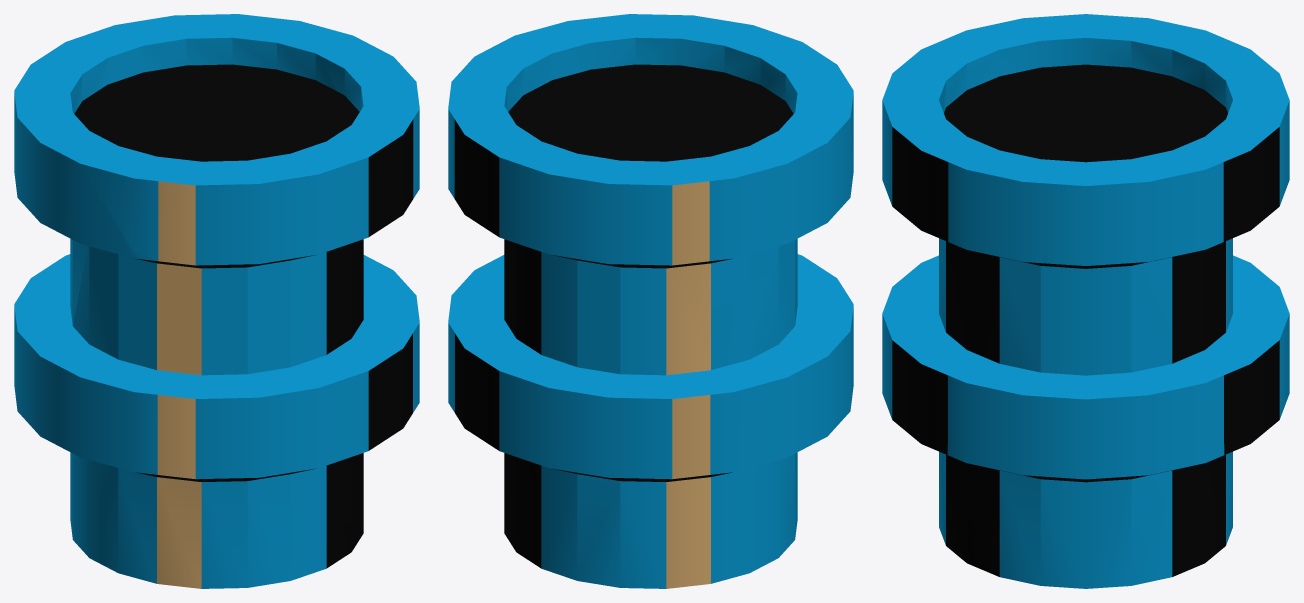
Rendered from br-m-pot-blue.fbx.
3 renders of one model, left to right at view 1: azimuth 30°, elevation 25°; view 2: azimuth 150°, elevation 25°; view 3: azimuth 270°, elevation 25°, orthographic.
Parts seen in each view (by area): view 1: pot_blue_m; view 2: pot_blue_m; view 3: pot_blue_m.
Part boxes in pixels (<box>): pot_blue_m: <box>14,14,419,588</box>; pot_blue_m: <box>448,14,853,588</box>; pot_blue_m: <box>882,14,1289,588</box>.
Bounding box in the file's own units: 86.5 × 100 × 86.5.
